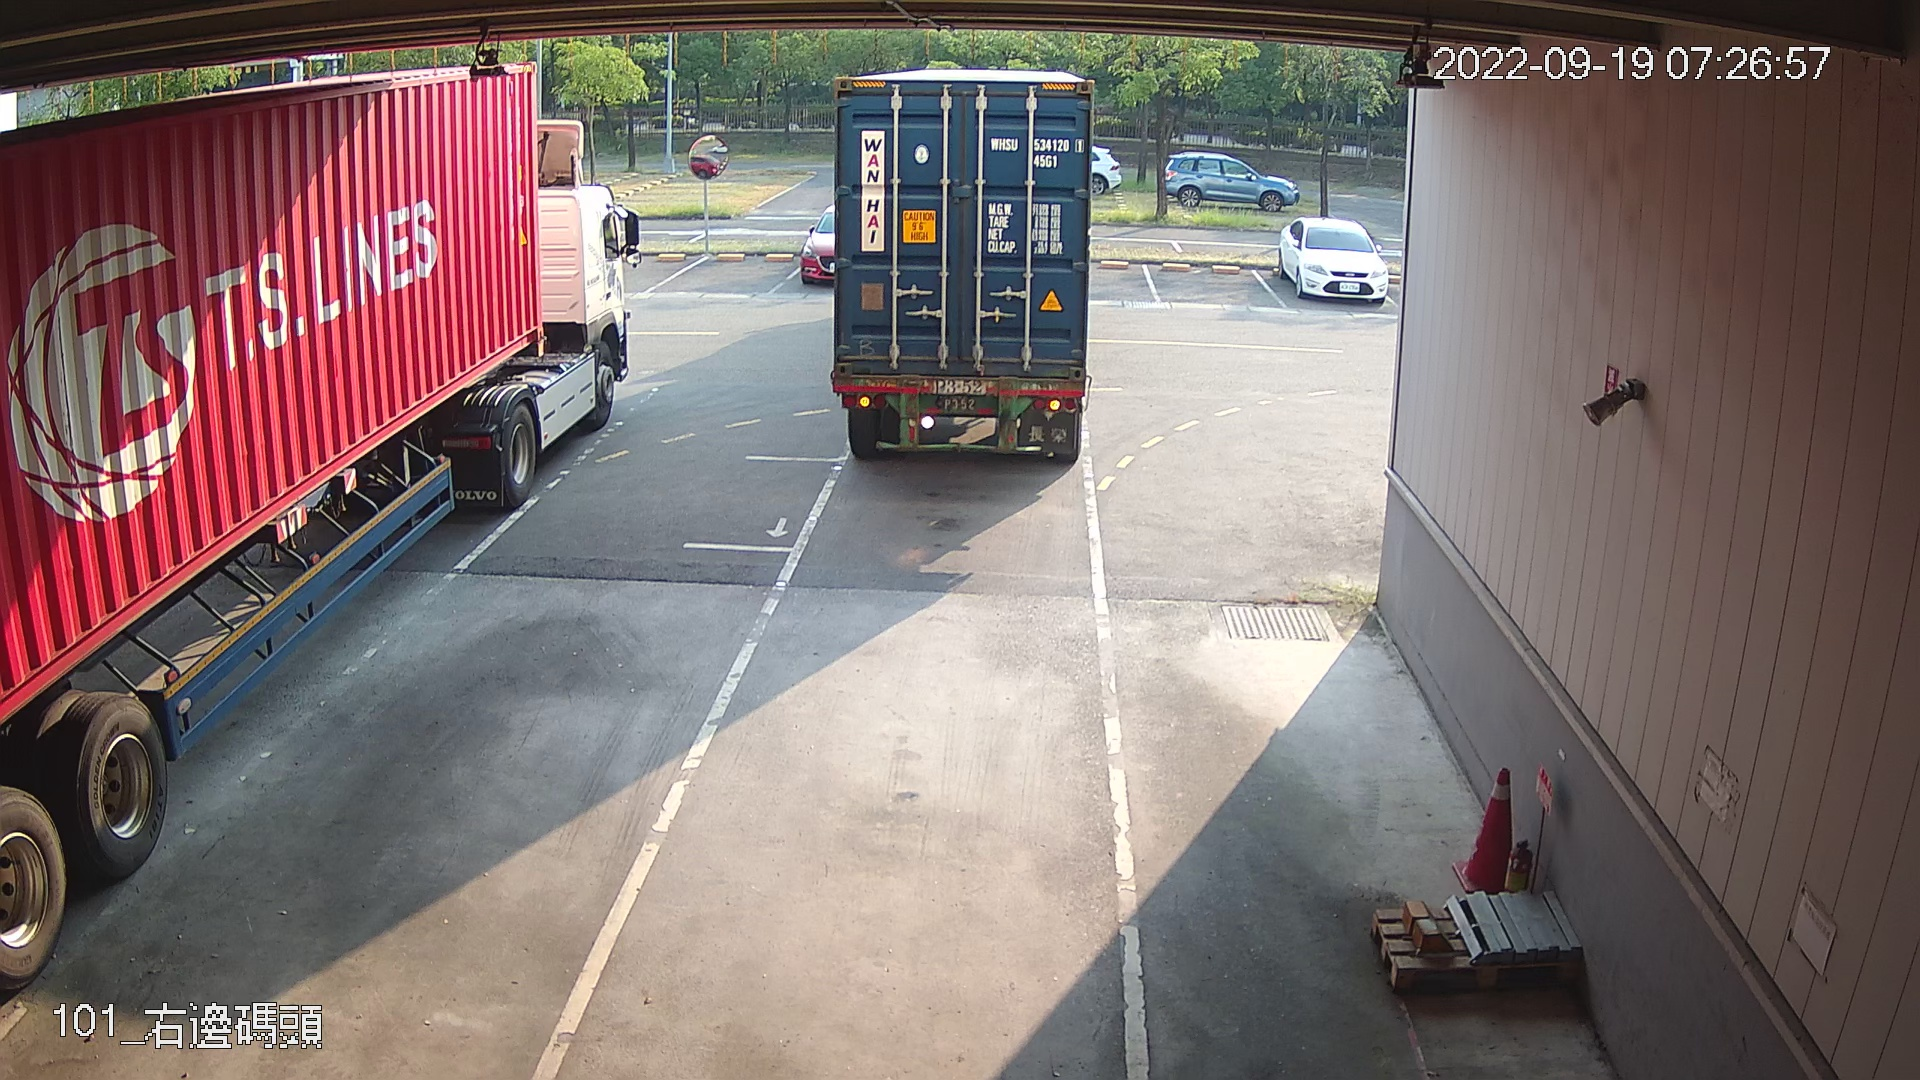container: (984, 131, 1087, 174)
